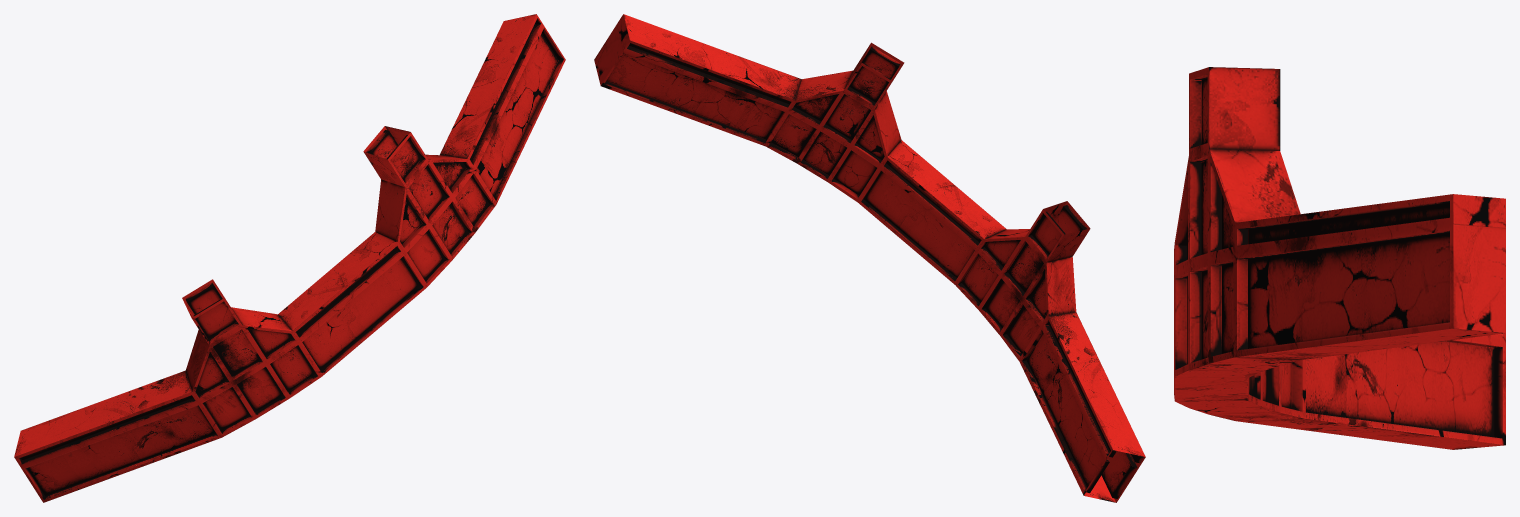
The model's file is Blame_Hall_Beams_Curved.fbx.
3 views of the same model, side by side, from view 1: azimuth 30°, elevation 25°; view 2: azimuth 150°, elevation 25°; view 3: azimuth 270°, elevation 25° (orthographic). The views are drawn at different scales.
Visible parts, largest first — view 1: mod_curved_beam.002; view 2: mod_curved_beam.002; view 3: mod_curved_beam.002.
Boxes of the visible parts, left/top/right/bottom form: mod_curved_beam.002: left=14, top=14, right=565, bottom=502; mod_curved_beam.002: left=594, top=14, right=1145, bottom=502; mod_curved_beam.002: left=1174, top=67, right=1505, bottom=449.
Size of the model in its own units: 2567 by 1639 by 669.
Materials: 1 (1 with a texture image).
